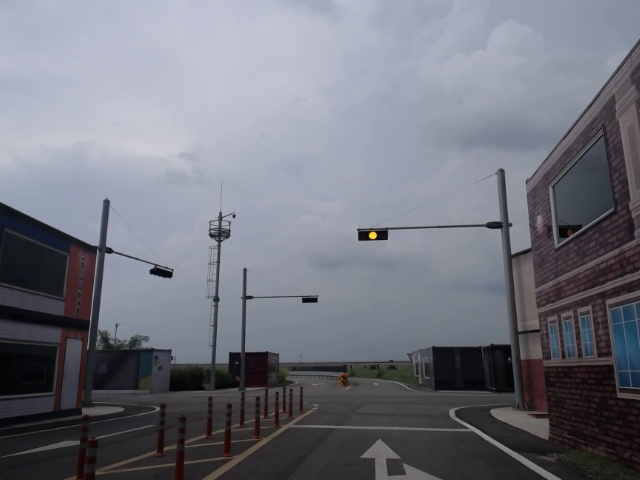orange_3: (357, 229, 388, 241)
